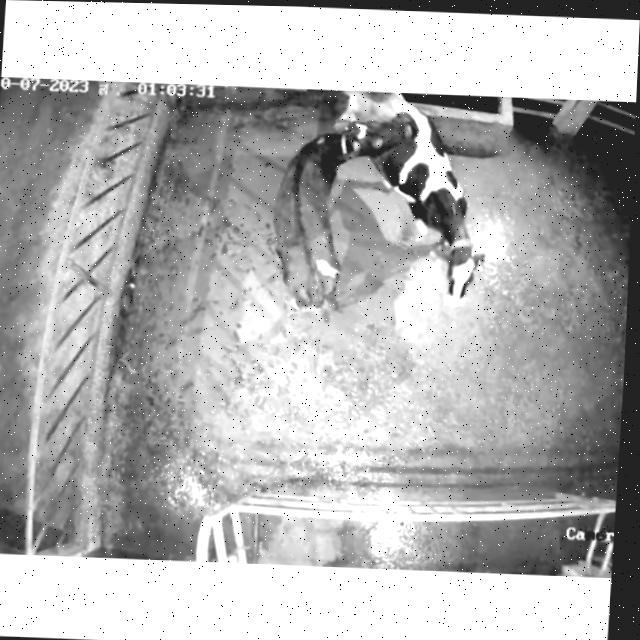propping: (323, 100, 441, 171)
